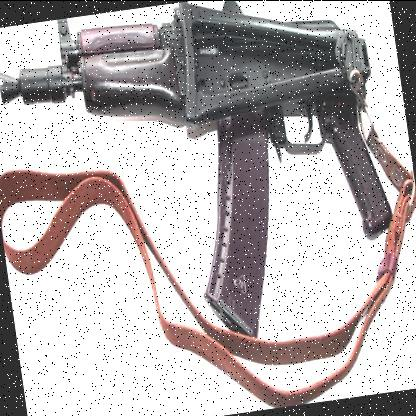rifle: (0, 0, 399, 346)
